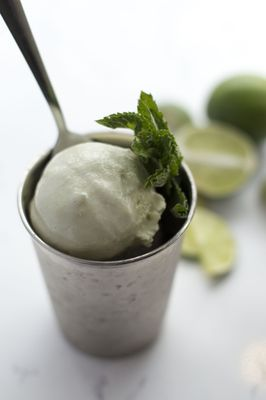curry: (95, 90, 184, 193)
pizza: (15, 94, 199, 359)
salad: (2, 1, 136, 156)
